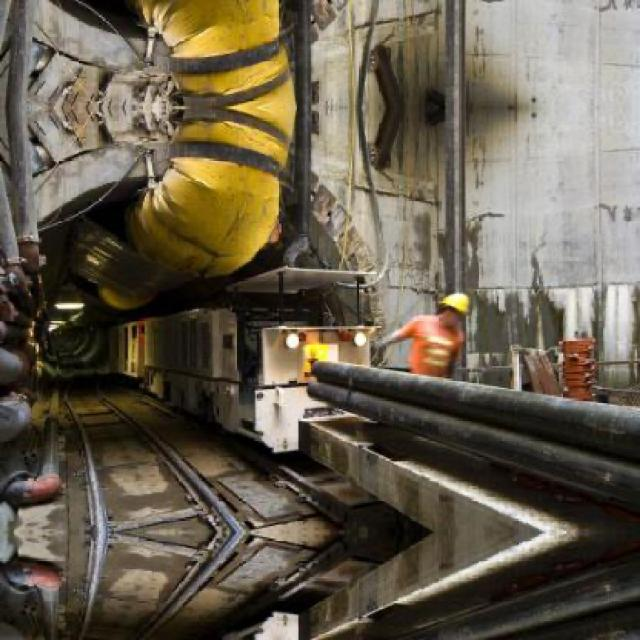helmet: (436, 289, 472, 325)
